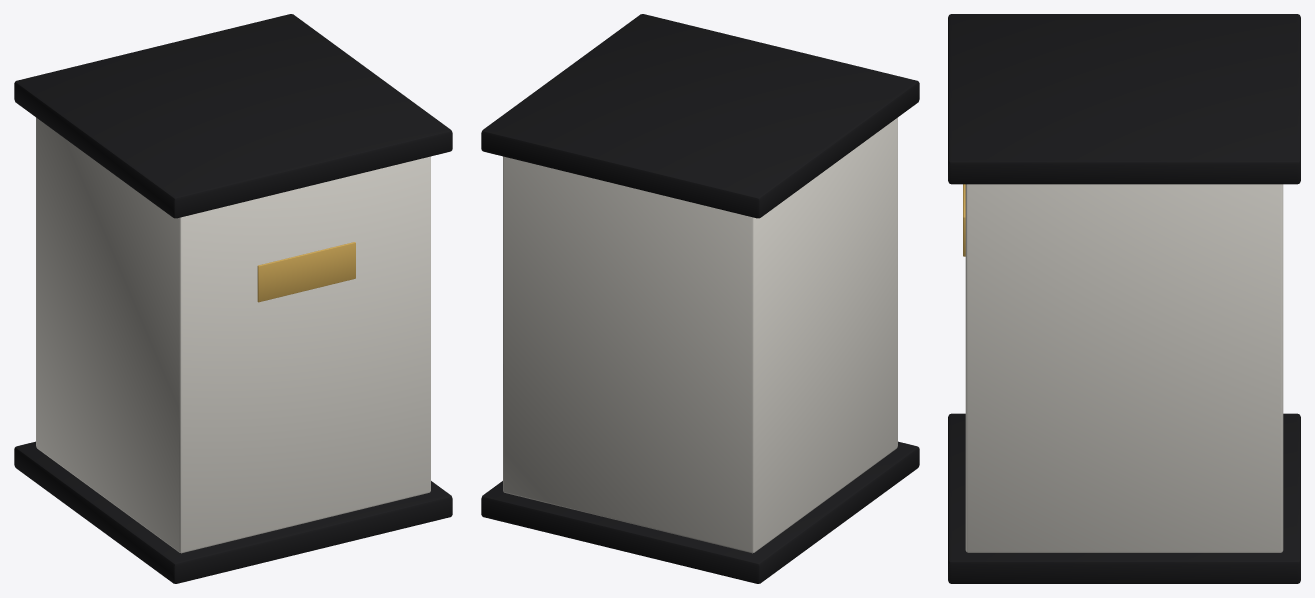
The model's file is meridian_case_plinth.glb.
3 views of the same model, side by side, from view 1: azimuth 30°, elevation 25°; view 2: azimuth 150°, elevation 25°; view 3: azimuth 270°, elevation 25° (orthographic). The views are drawn at different scales.
Visible parts, largest first — view 1: meridian_case_plinth; view 2: meridian_case_plinth; view 3: meridian_case_plinth.
Boxes of the visible parts, box(x1,y1,x2,y2) form: meridian_case_plinth: box(14, 14, 452, 583); meridian_case_plinth: box(481, 14, 919, 583); meridian_case_plinth: box(948, 14, 1300, 583).
Size of the model in its own units: 0.8 by 1.06 by 0.8.
